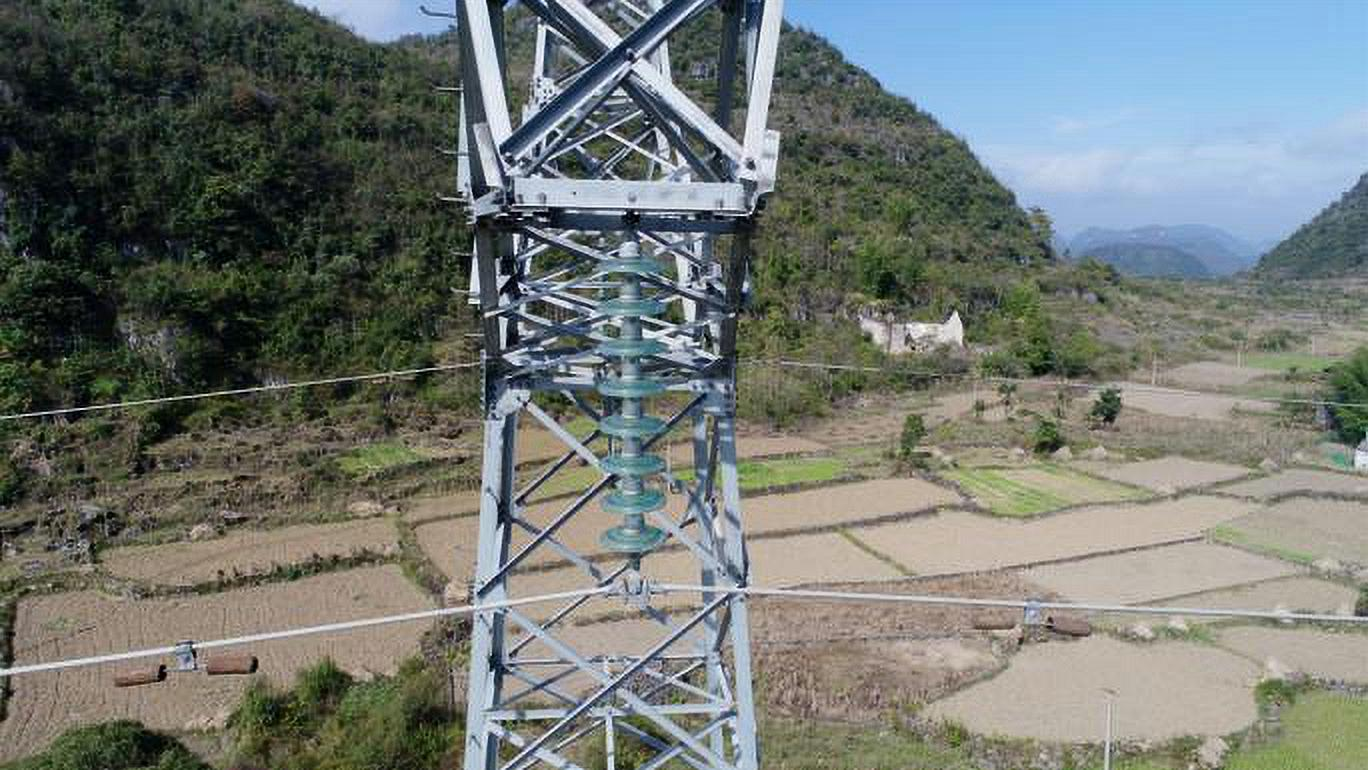insulator: (589, 253, 675, 561)
